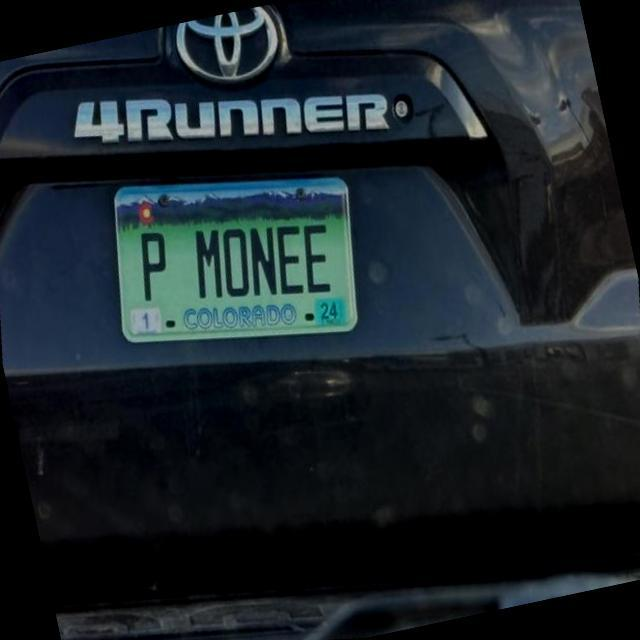LicensePlate: (112, 172, 358, 344)
